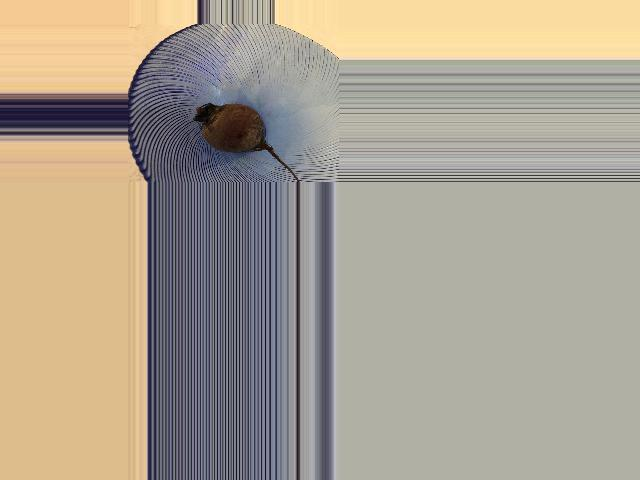beet: (193, 104, 298, 183)
